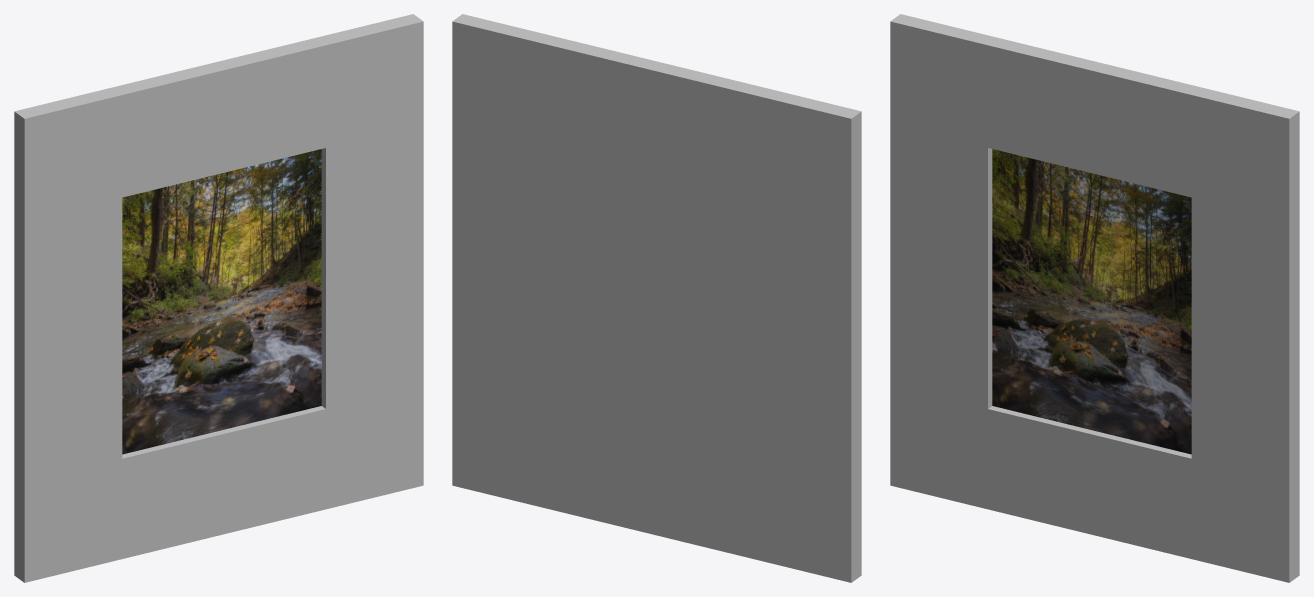
File: Frame_03.FBX
3 views of the same model, side by side, from view 1: azimuth 30°, elevation 25°; view 2: azimuth 150°, elevation 25°; view 3: azimuth 330°, elevation 25° (orthographic).
Parts seen in each view (by area): view 1: Frame_03; view 2: Frame_03; view 3: Frame_03.
Boxes of the visible parts, x1,y1,x2,y2 form: Frame_03: (14, 14, 423, 582); Frame_03: (452, 14, 861, 582); Frame_03: (890, 14, 1299, 582).
Bounding box in the file's own units: 810 × 36 × 900.
